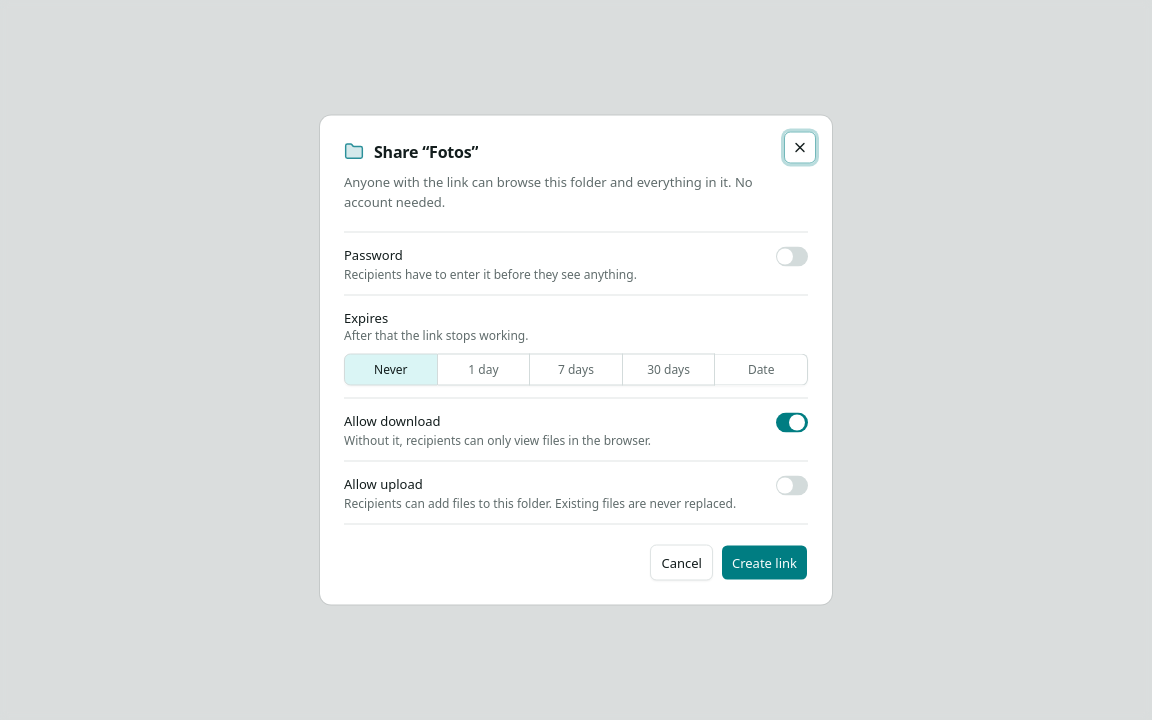
Scenario: opens the create form for an item without links and rejects short passwords and past dates
Click the switch named "Password" in the row of "Password". click: (792, 256)
box: [776, 246, 808, 266]
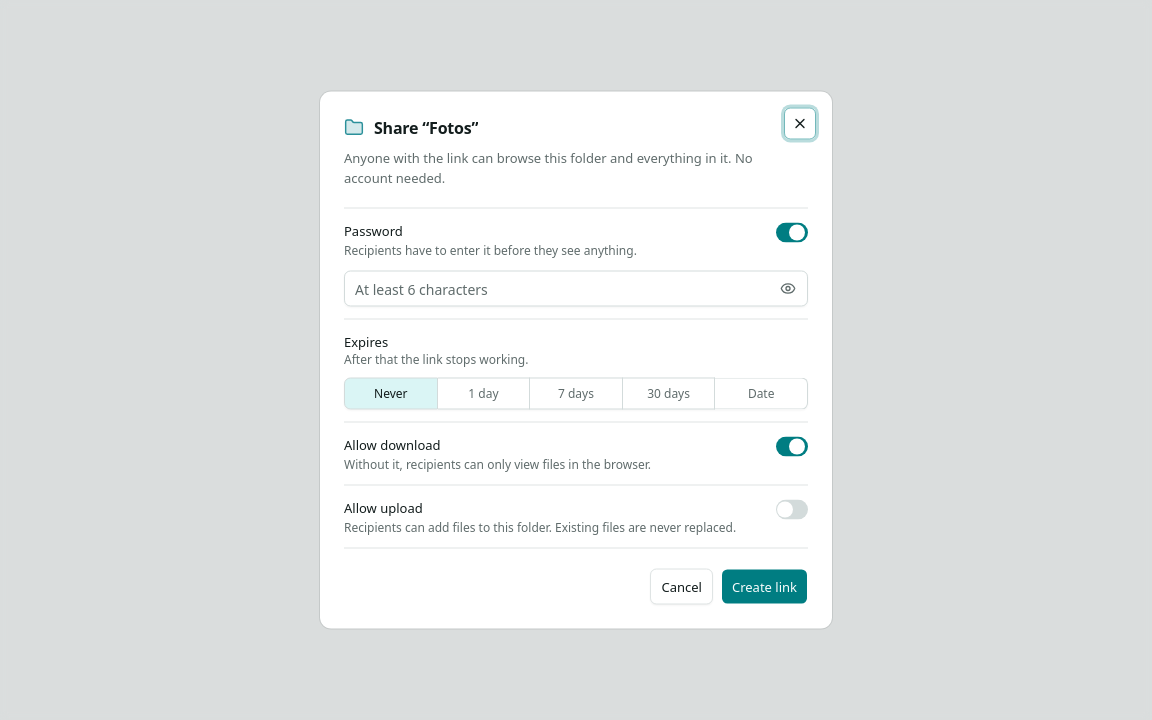
Type "abc" into the password field named "Password for the link". click: (576, 288)
box: [344, 270, 808, 306]
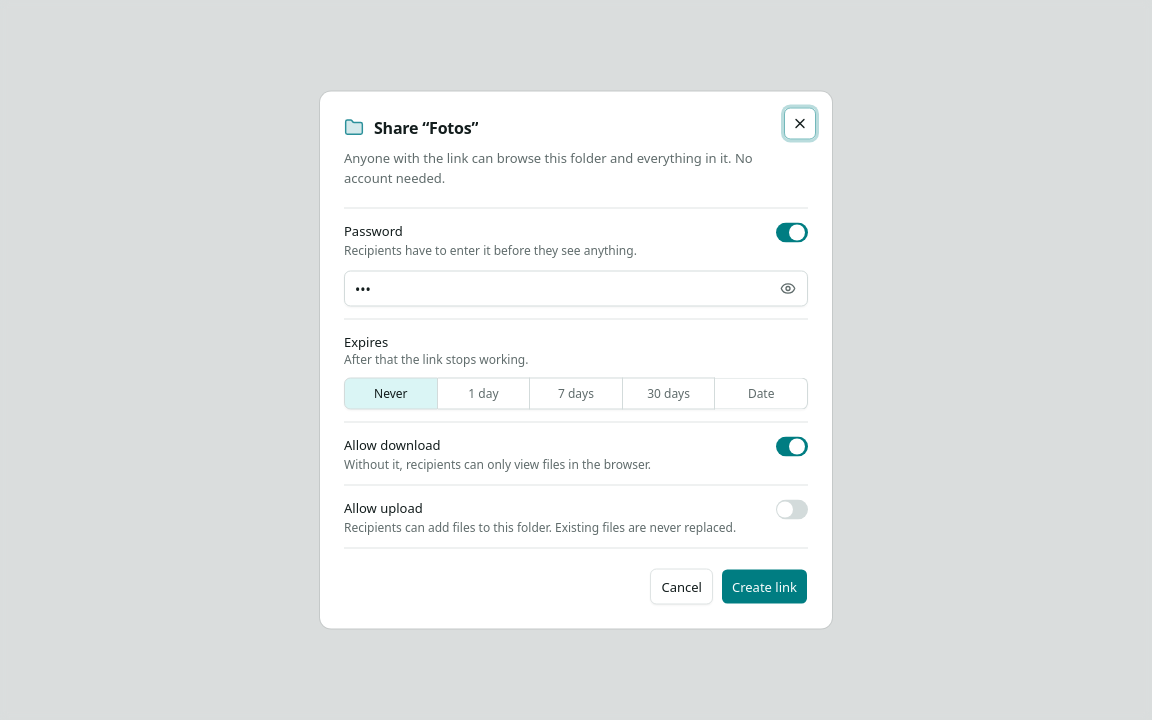
Click the radio button labelled "Date". click: (762, 394)
box: [715, 378, 808, 410]
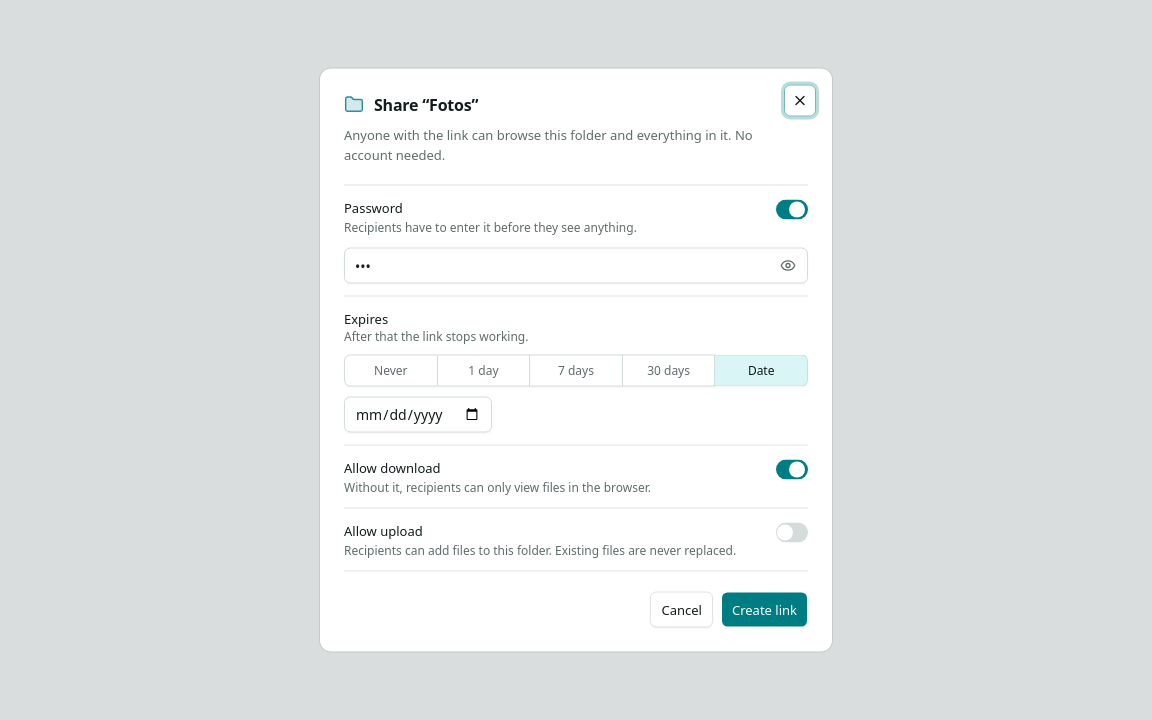
Type "2020-01-01" into the date field named "Expiry date". click: (418, 414)
box: [344, 396, 492, 432]
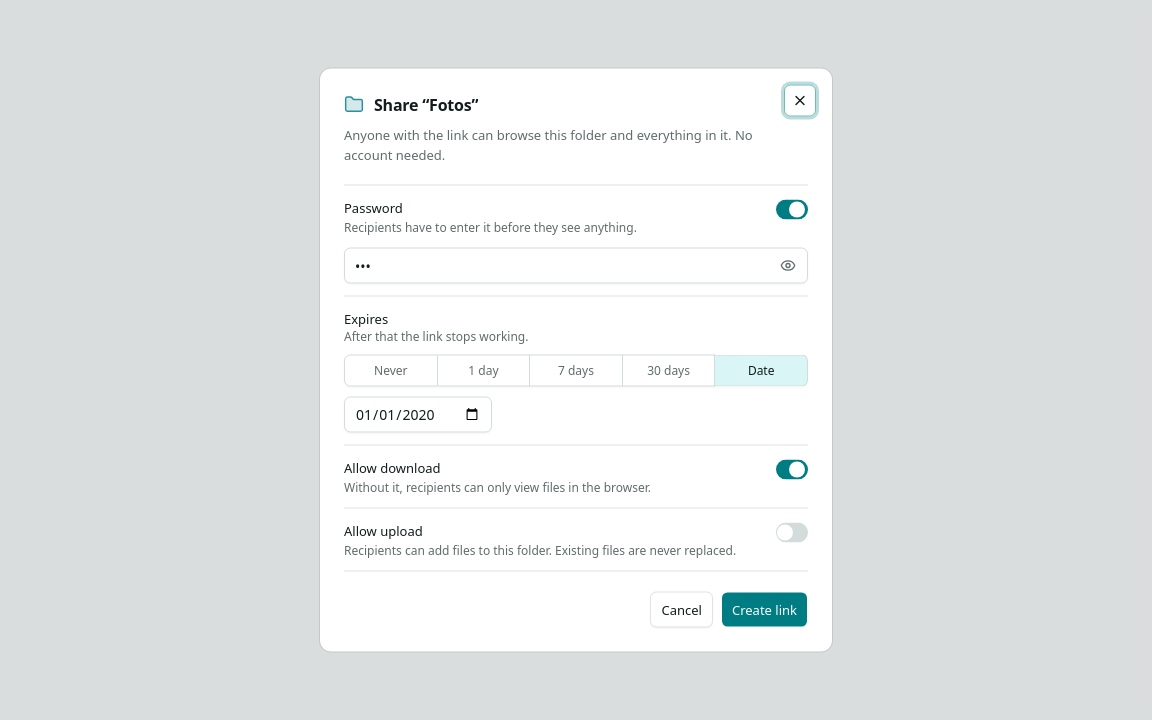
Click the button "Create link". click: (764, 610)
box: [721, 592, 808, 628]
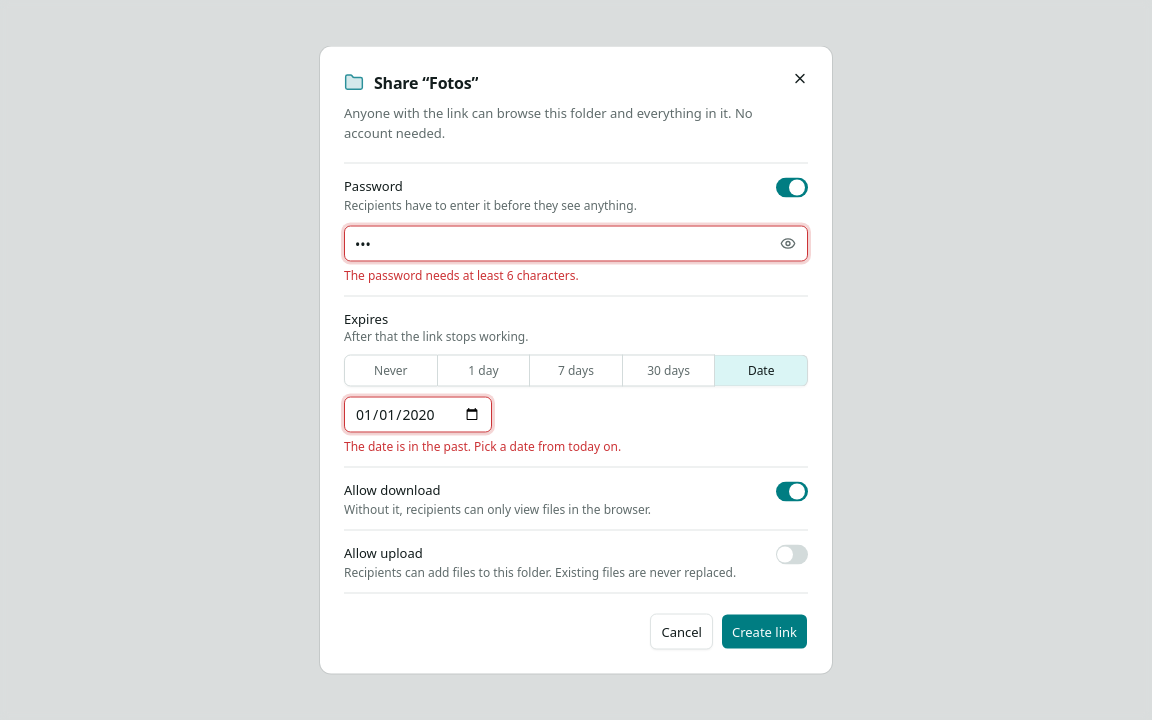
Expected: the text "The password needs at least 6 characters." is shown, [344, 266, 579, 284]
Expected: the text "The date is in the past. Pick a date from today on." is shown, [344, 438, 621, 454]
